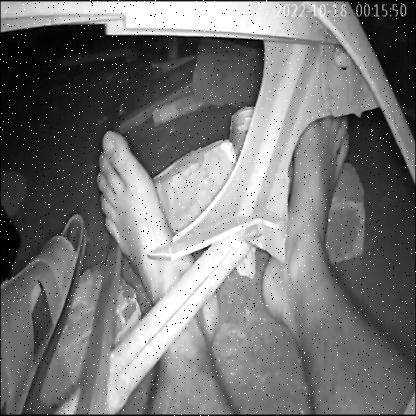leg: (255, 100, 416, 416), (90, 123, 232, 416)
